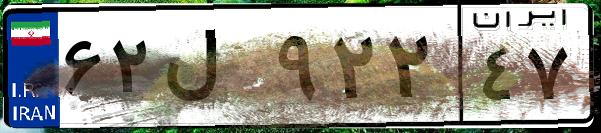2: (385, 28, 445, 110), (330, 28, 385, 110), (110, 28, 158, 98)
4: (475, 38, 525, 113)
6: (57, 26, 110, 100)
7: (525, 38, 570, 115)
9: (270, 28, 330, 110)
ل: (158, 20, 270, 120)
